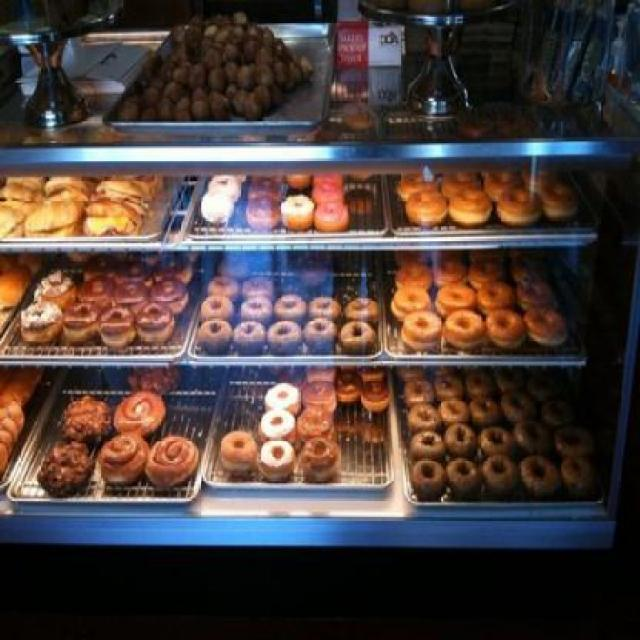Donuts: (6, 252, 640, 534), (178, 162, 598, 236)
